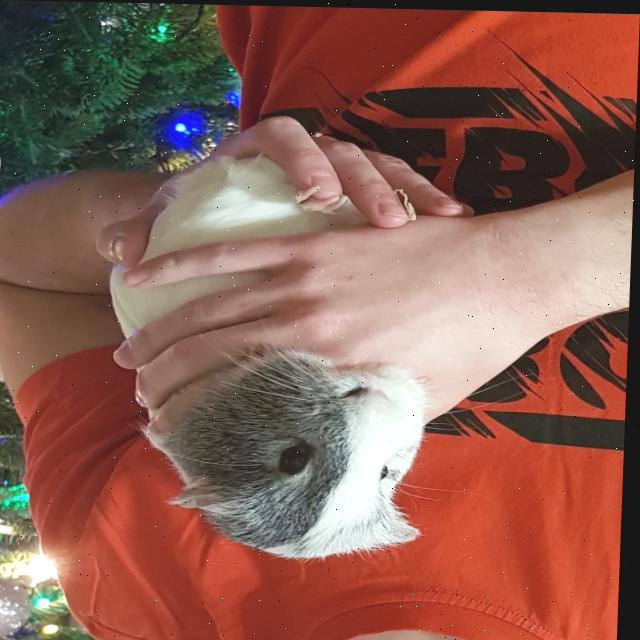guinea pig: (101, 153, 441, 565)
